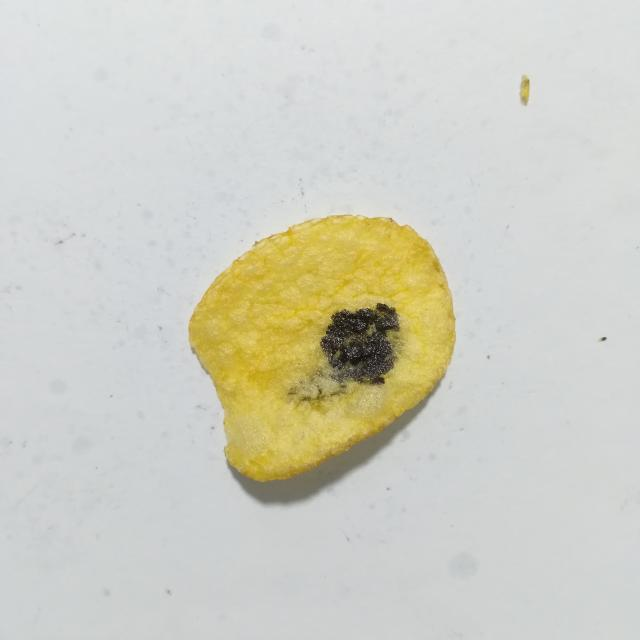chip: (189, 215, 455, 481)
damaged: (321, 303, 399, 384)
semi-damaged: (288, 362, 356, 403), (387, 323, 403, 366)
